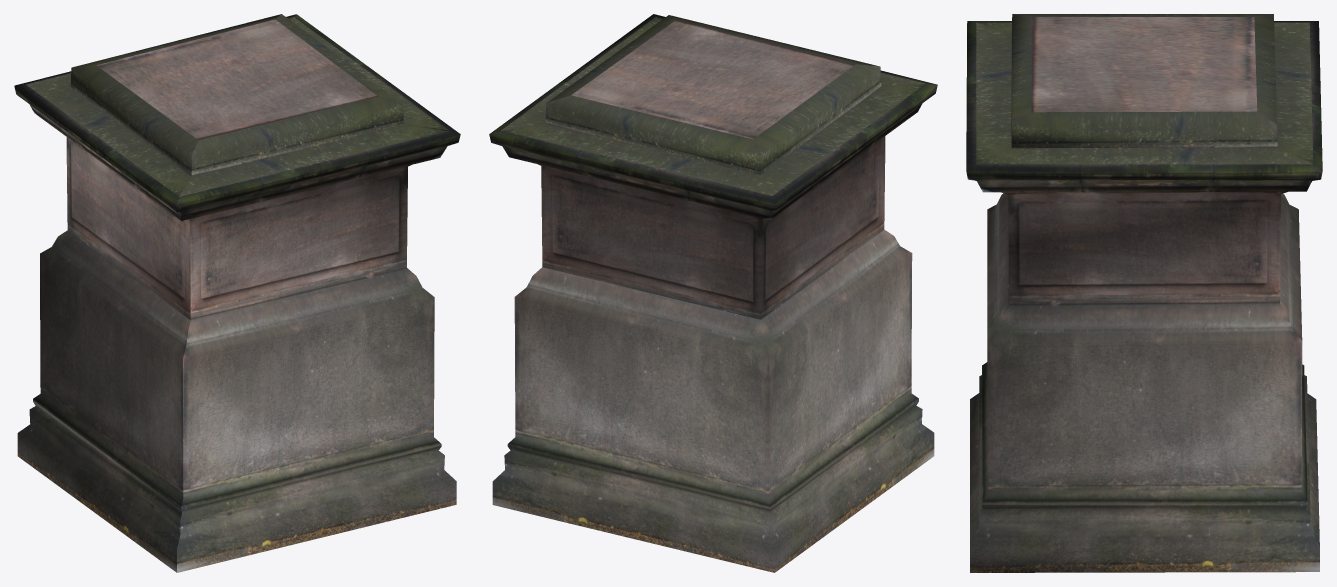
The model's file is step_pillar.obj.
3 renders of one model, left to right at view 1: azimuth 30°, elevation 25°; view 2: azimuth 150°, elevation 25°; view 3: azimuth 270°, elevation 25°, orthographic. The views are drawn at different scales.
Parts seen in each view (by area): view 1: material38; view 2: material38; view 3: material38.
Part boxes in pixels (x1,y1,x2,y2): material38: (14, 14, 460, 572); material38: (489, 14, 937, 572); material38: (966, 14, 1322, 572).
Size of the model in its own units: 45.5 by 61.29 by 45.49.
Materials: 1 (1 with a texture image).
